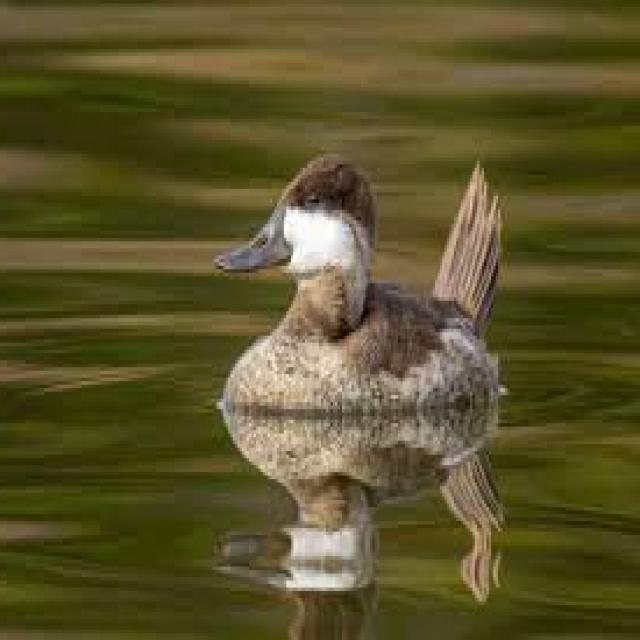duck: (216, 157, 507, 409)
